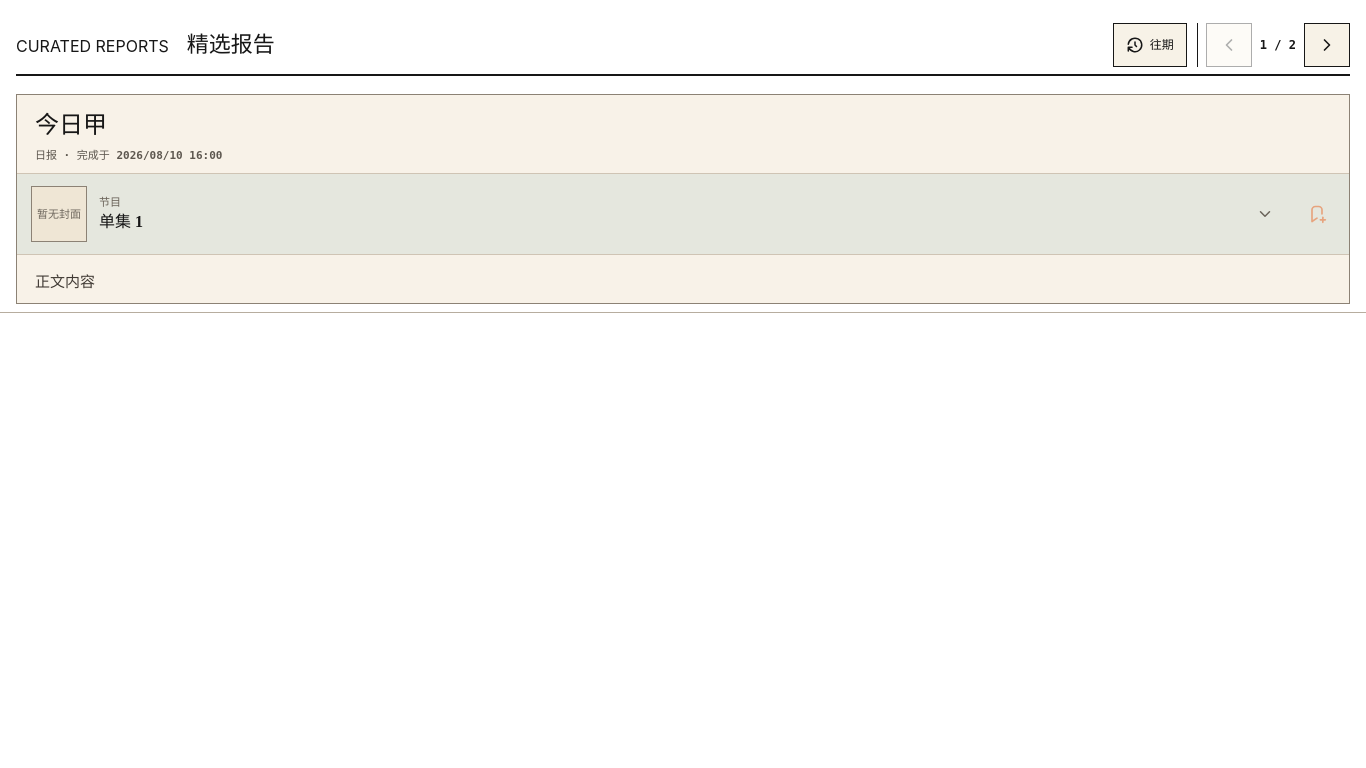
it: WorkflowReportWorkbench › loads history on demand and restores prior today index on back (#94/#95)
Click the button named "查看更早一份报告" at (1327, 45), box left=1304, top=23, right=1350, bottom=67
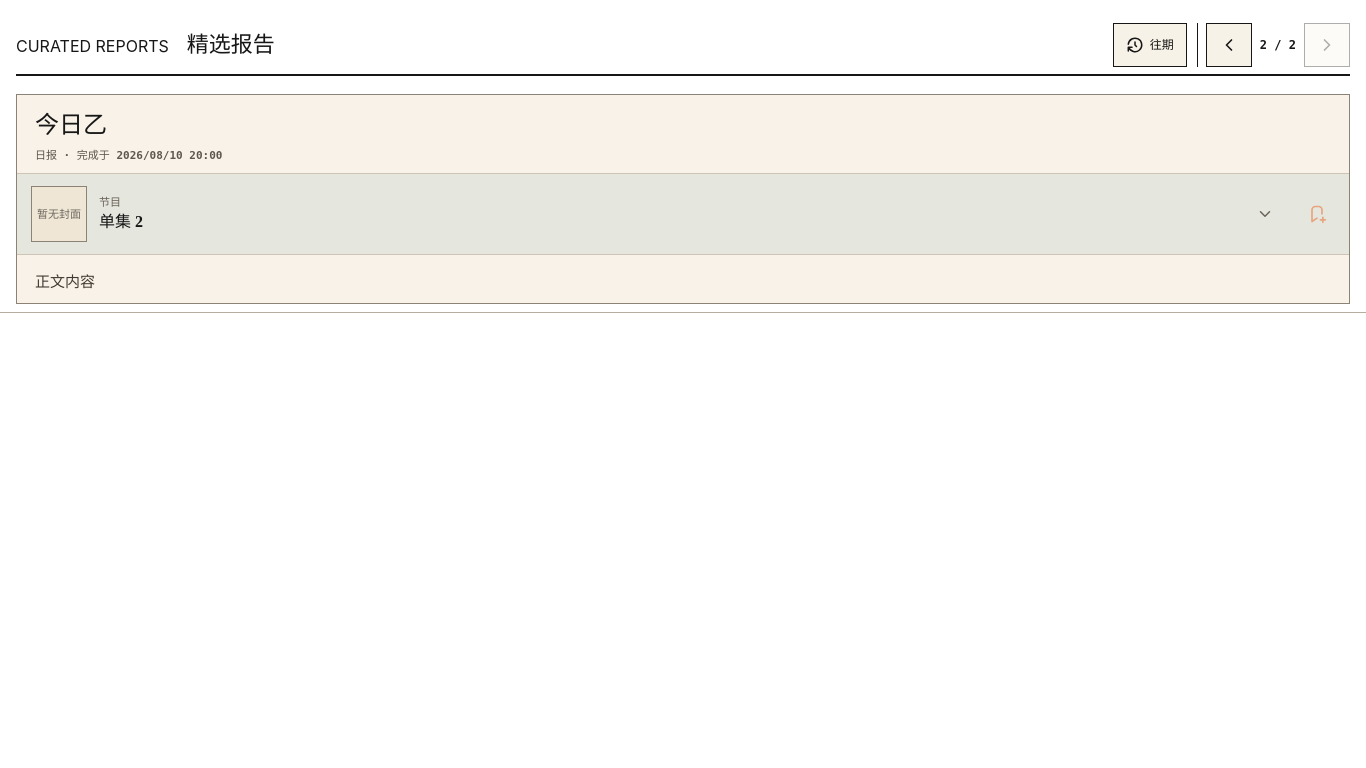
Result: the text "2 / 2" is shown at left=1260, top=38, right=1296, bottom=52
Click the button "往期" at (1150, 45), box left=1113, top=23, right=1187, bottom=67
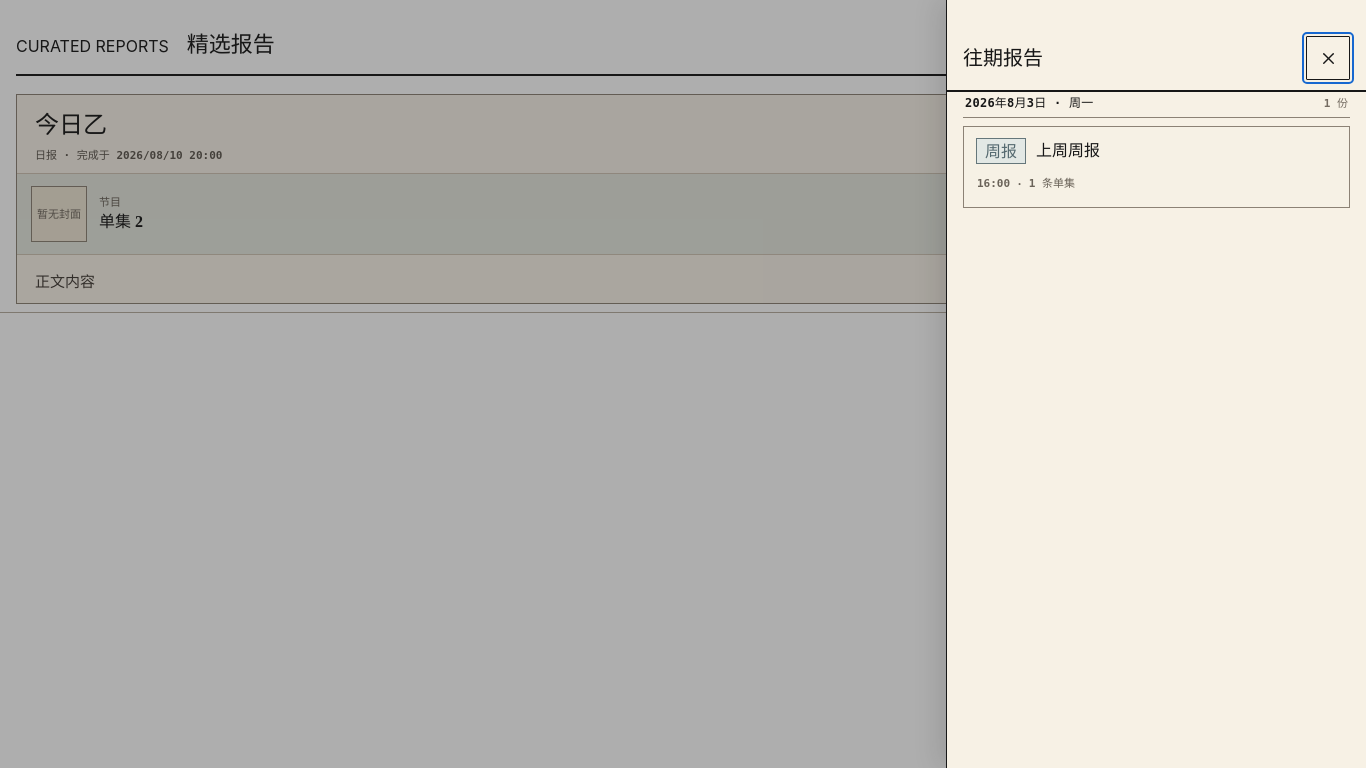
Result: the dialog "往期报告" is shown at left=946, top=0, right=1365, bottom=767
Click the text "上周周报" at (1068, 151), box left=1036, top=139, right=1100, bottom=163
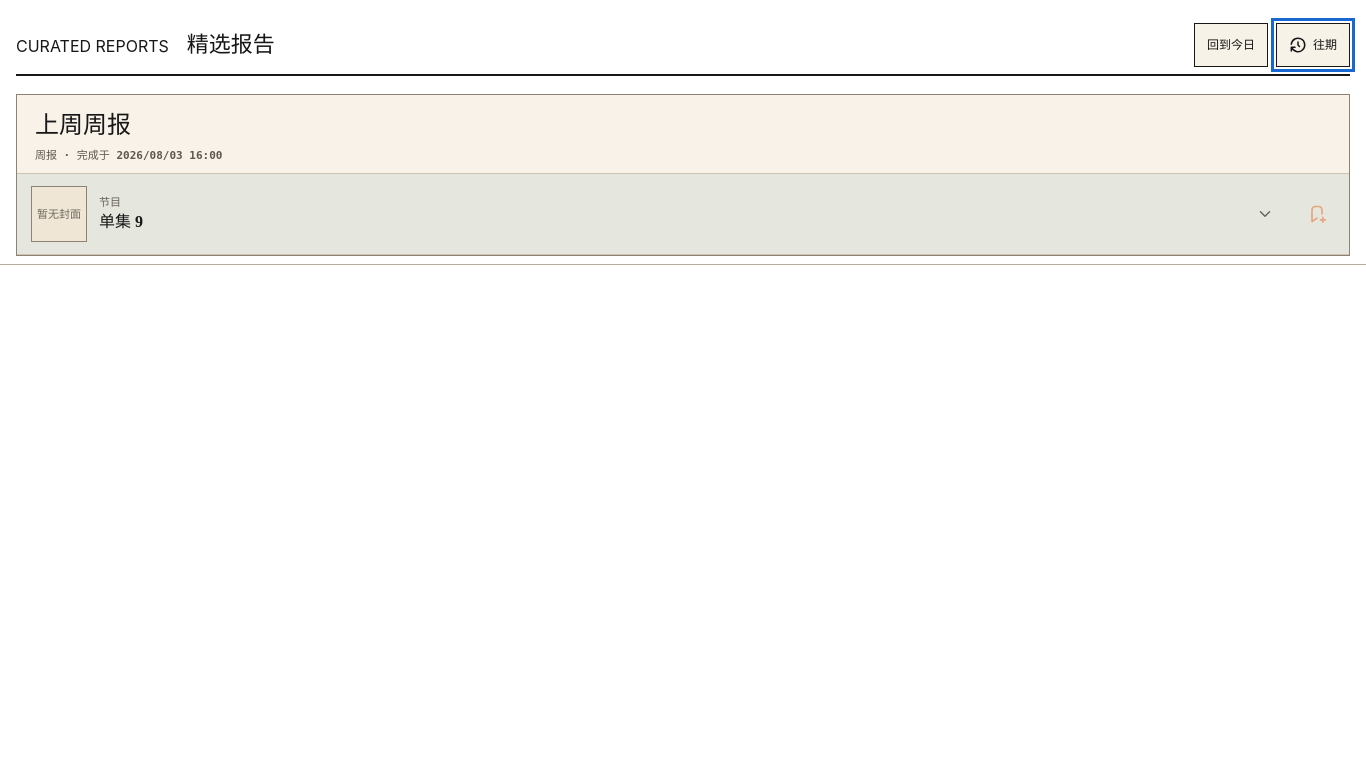
Result: the heading "上周周报" is shown at left=35, top=112, right=131, bottom=138
Result: the element "按完成时间浏览报告" is gone
Result: the text "周报 · 完成于 2026/08/03 16:00" is shown at left=35, top=149, right=222, bottom=162
Click the button "回到今日" at (1231, 45), box left=1194, top=23, right=1268, bottom=67
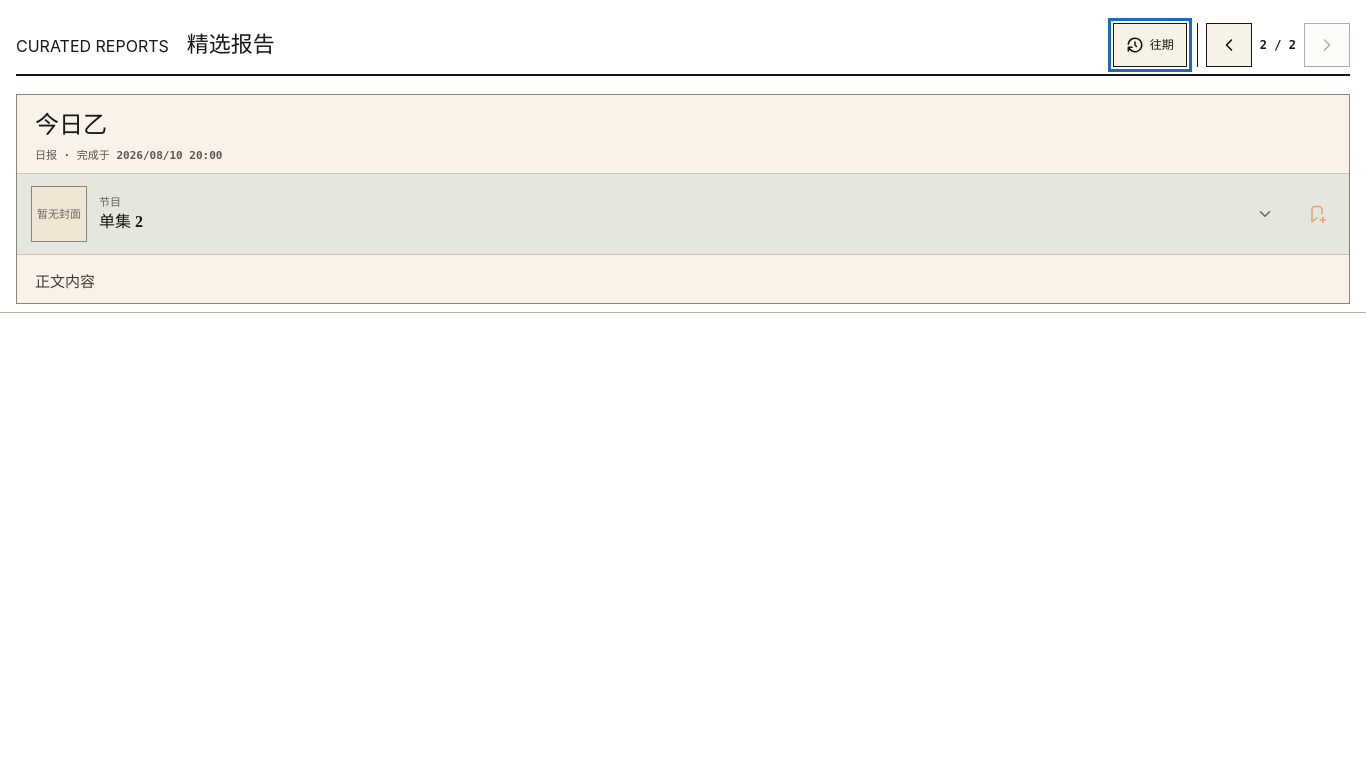
Result: the text "2 / 2" is shown at left=1260, top=38, right=1296, bottom=52
Result: the heading "今日乙" is shown at left=35, top=112, right=107, bottom=138
Result: the heading "单集 2" is shown at left=99, top=213, right=143, bottom=230
